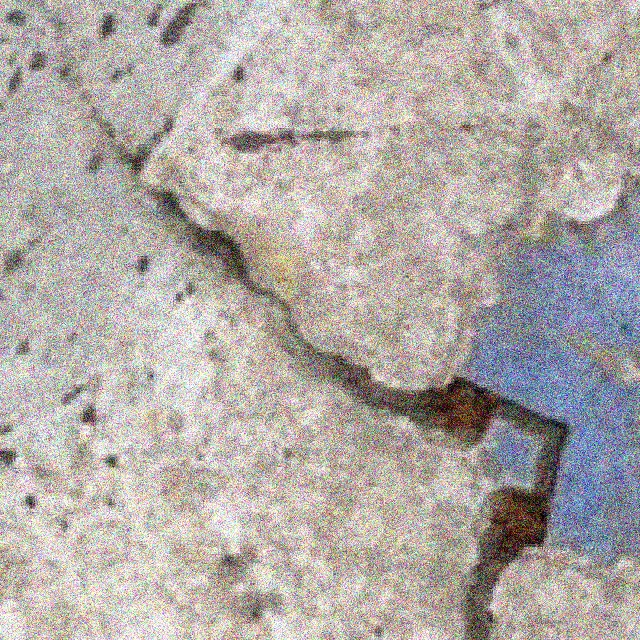SurfaceCrack: (90, 120, 588, 640)
